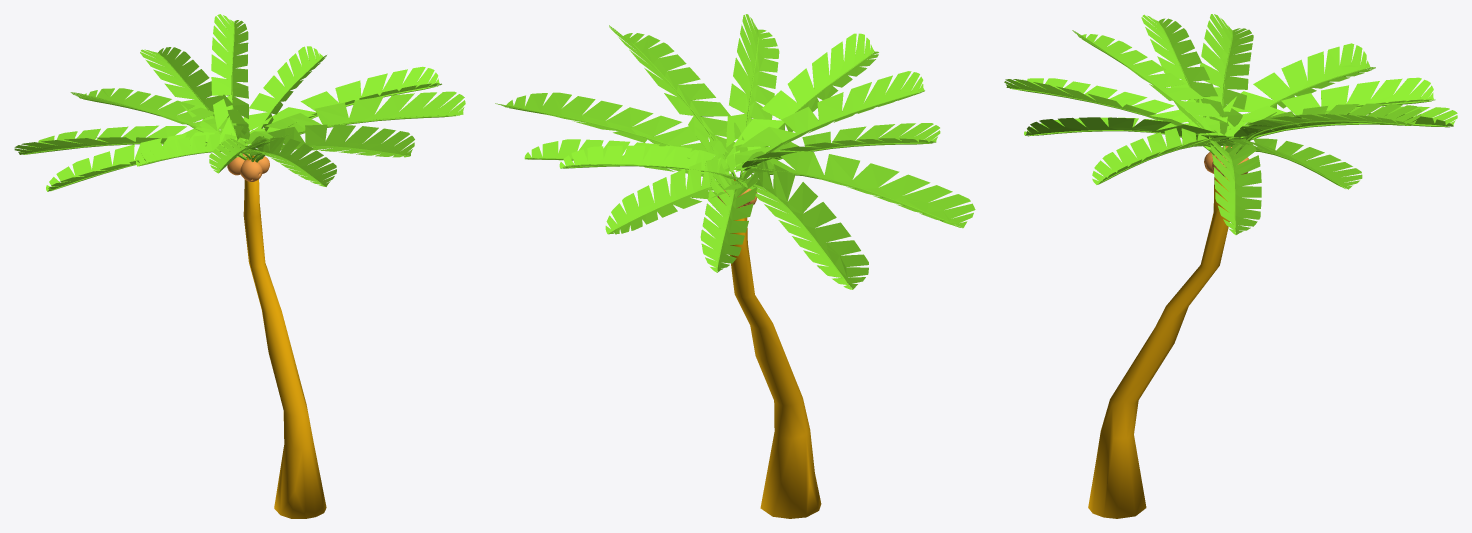
The model's file is palmier3.dae.
3 views of the same model, side by side, from view 1: azimuth 30°, elevation 25°; view 2: azimuth 150°, elevation 25°; view 3: azimuth 270°, elevation 25° (orthographic). The views are drawn at different scales.
Visible parts, largest first — view 1: leafs, trunc, coconuts; view 2: leafs, trunc; view 3: leafs, trunc.
Boxes of the visible parts, <box> form: leafs: <box>14,14,465,191</box>; trunc: <box>243,155,326,518</box>; coconuts: <box>227,153,269,181</box>; leafs: <box>495,14,975,289</box>; trunc: <box>730,179,821,518</box>; leafs: <box>1004,14,1457,234</box>; trunc: <box>1088,156,1229,518</box>.
Bounding box in the file's own units: 17.23 × 15.1 × 15.76.
